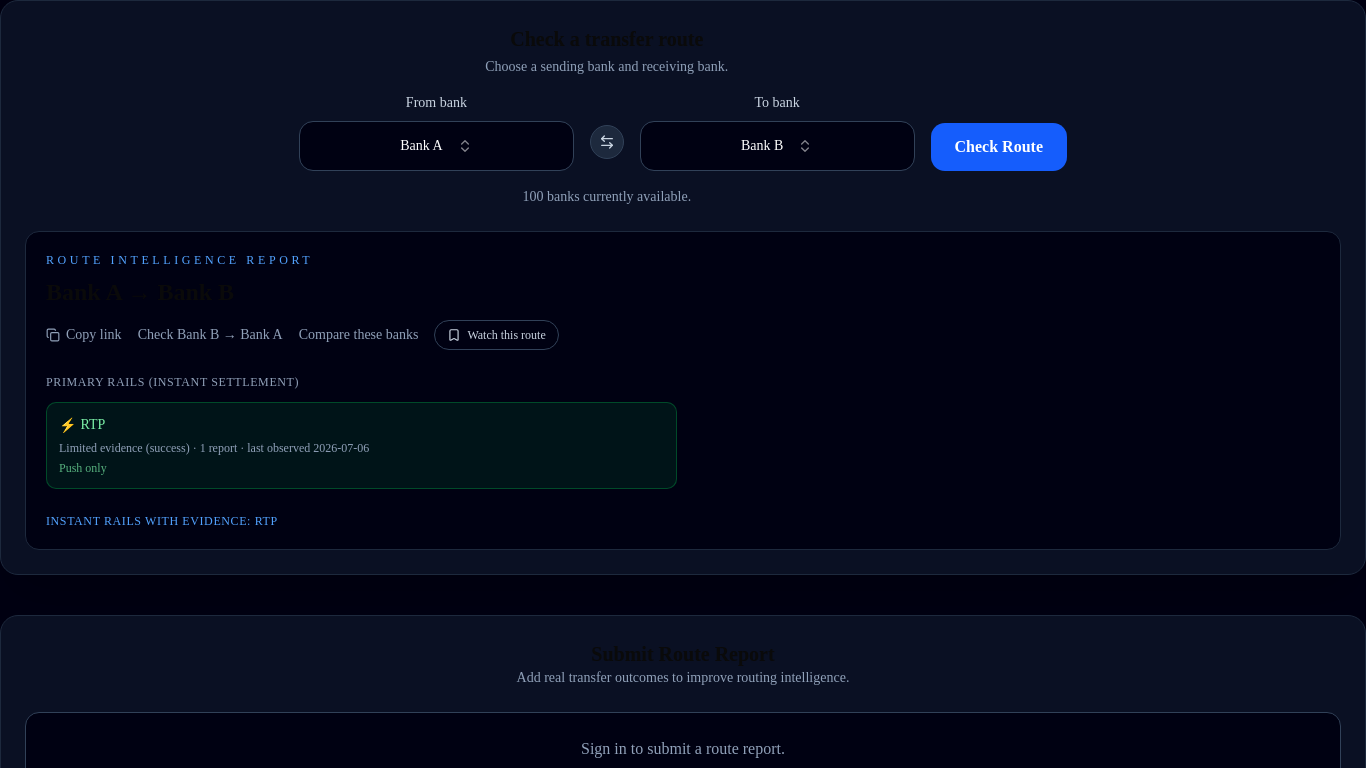
HomeRouteChecker — swap, copy link, reverse check, compare › swaps the two selections without re-checking, clearing the previous result
The width and height of the screenshot is (1366, 768).
Expected: the text "Limited evidence" is shown, [59,441,143,455]
Click the button named "Swap from and to banks": (607, 142) [590,125,624,159]
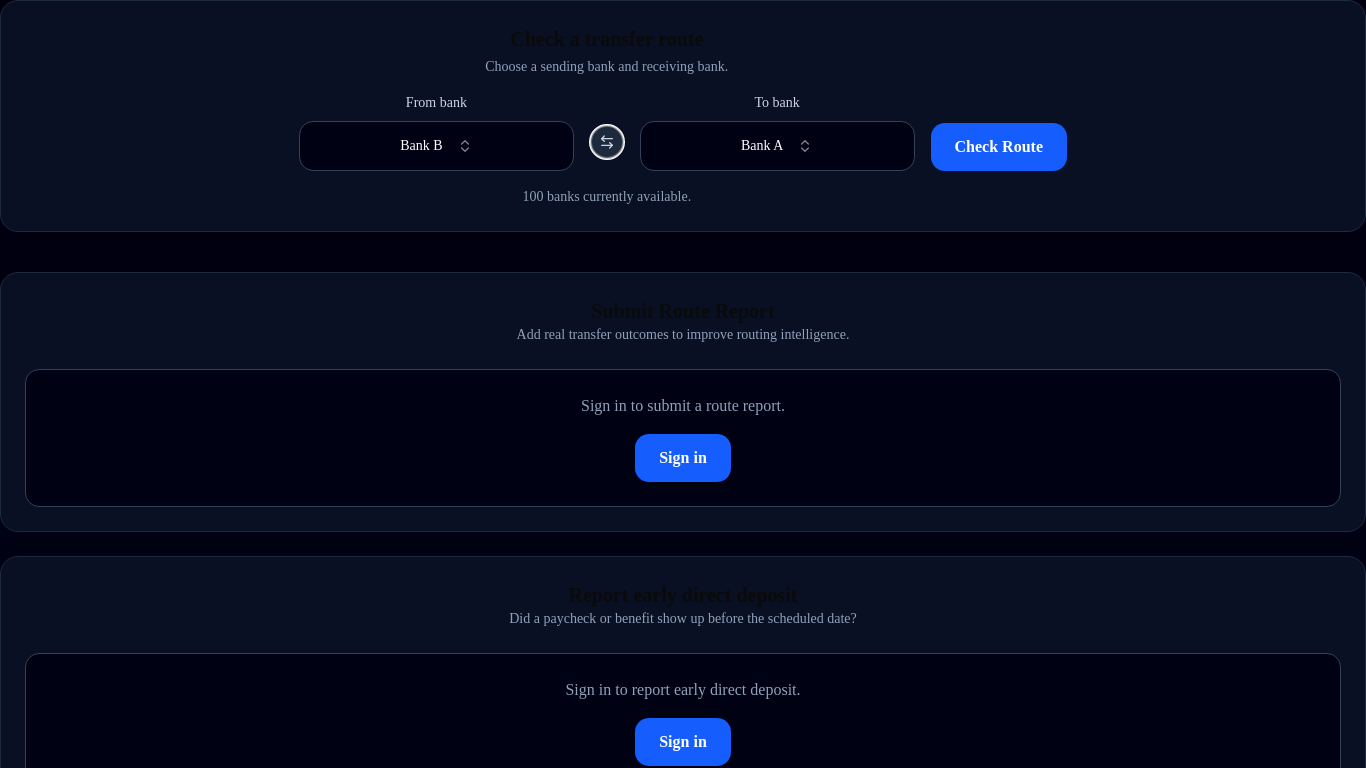
Expected: the dropdown named "From bank" reads "Bank B", [299,121,574,171]
Expected: the dropdown named "To bank" reads "Bank A", [640,121,915,171]
Expected: the text "Limited evidence" is gone
